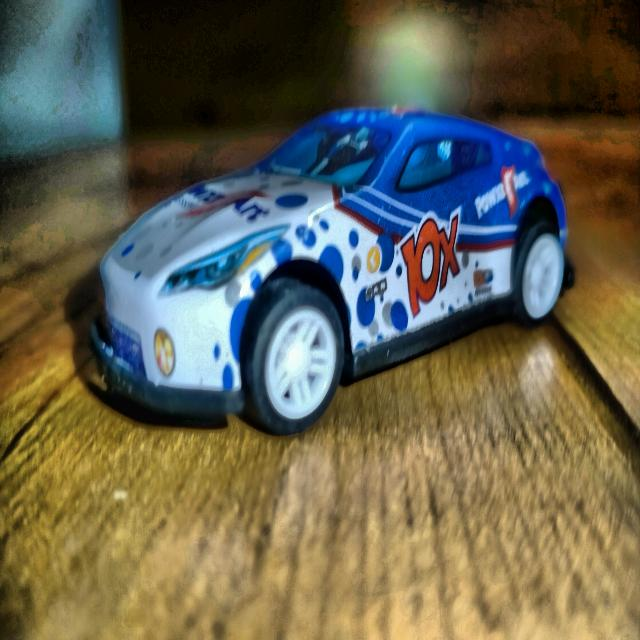Car: (92, 110, 569, 434)
